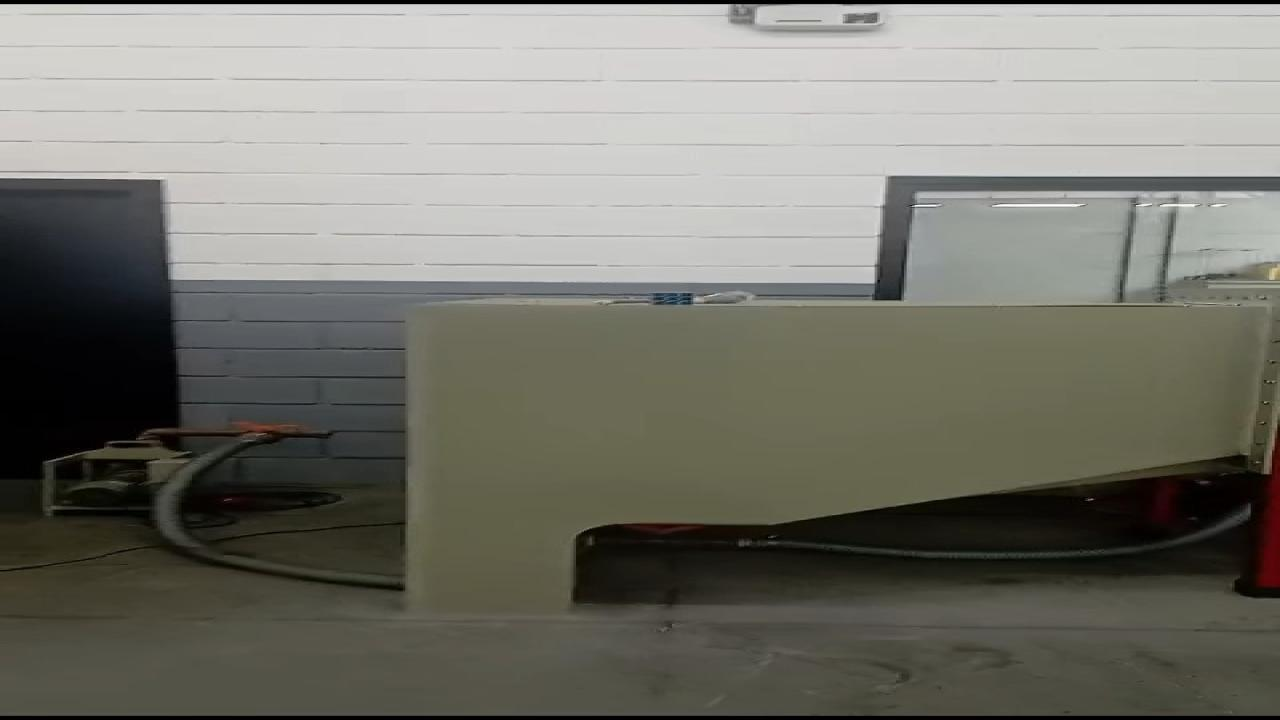Cube: (650, 292, 695, 305)
